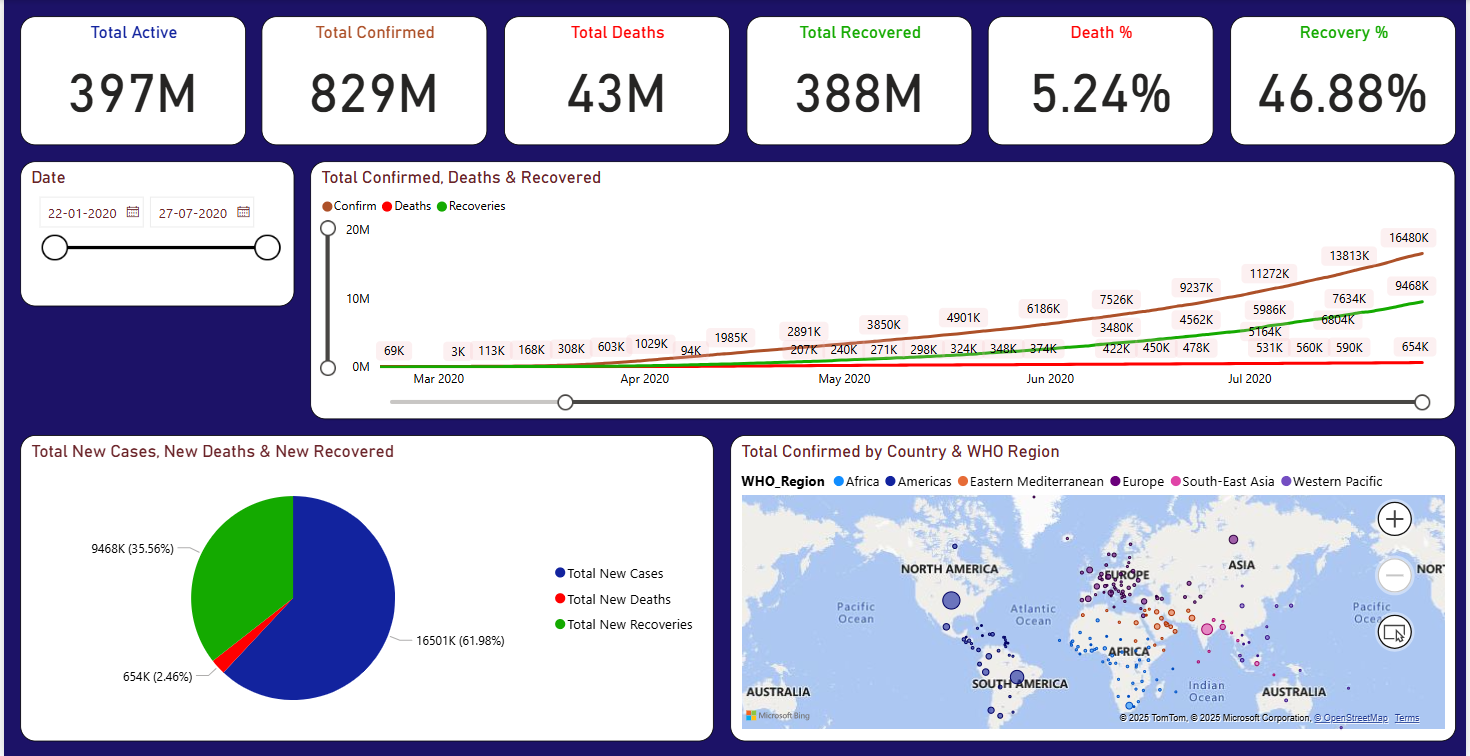

The page's visual inventory and layout, read from the dashboard file:
{"tool":"powerbi","page":{"name":"Global Snapshot","canvas":[1450,750],"ordinal":0},"visuals":[{"type":"card","title":"Total Active","fields":{"Values":["Sum(GlobalDailyTotals.Active)"]},"box":[16,16,224,128],"z":0},{"type":"card","title":"Total Confirmed","fields":{"Values":["Sum(GlobalDailyTotals.Confirmed)"]},"box":[256,16,224,128],"z":1000},{"type":"card","title":"Total Recovered","fields":{"Values":["Sum(GlobalDailyTotals.Recovered)"]},"box":[736,16,224,128],"z":2000},{"type":"card","title":"Total Deaths","fields":{"Values":["Sum(GlobalDailyTotals.Deaths)"]},"box":[496,16,224,128],"z":3000},{"type":"card","title":"Death %","fields":{"Values":["View.Death%"]},"box":[976,16,224,128],"z":4000},{"type":"lineChart","title":"Total Confirmed, Deaths & Recovered ","fields":{"Y":["View.Confirm","View.Deaths","View.Recoveries"],"Category":["GlobalDailyTotals.Date.Variation.Date Hierarchy.Year","GlobalDailyTotals.Date.Variation.Date Hierarchy.Quarter","GlobalDailyTotals.Date.Variation.Date Hierarchy.Month","GlobalDailyTotals.Date.Variation.Date Hierarchy.Day"]},"box":[304,160,1136,256],"z":5000},{"type":"pieChart","title":"Total New Cases, New Deaths & New Recovered","fields":{"Y":["View.Total New Cases","View.Total New Deaths","View.Total Recovery"]},"box":[16,432,688,304],"z":6000},{"type":"map","title":"Total Confirmed by Country & WHO Region","fields":{"Category":["LatestByCountry.Country"],"Size":["Sum(LatestByCountry.Confirmed)"],"Series":["LatestByCountry.WHO_Region"]},"box":[720,432,720,304],"z":7000},{"type":"slicer","title":"Date","fields":{"Values":["GlobalDailyTotals.Date"]},"box":[16,160,272,144],"z":8000},{"type":"card","title":"Recovery %","fields":{"Values":["View.Recovery%"]},"box":[1216,16,224,128],"z":9000}]}

Visuals, with their boxes in screenshot pixels (x1, y1, x2, y2), scaled from the page's 1450x750 canvas onto the 1470x756 screenshot:
"Total Active" card: [16,16,243,145]
"Total Confirmed" card: [260,16,487,145]
"Total Recovered" card: [746,16,973,145]
"Total Deaths" card: [503,16,730,145]
"Death %" card: [989,16,1217,145]
"Total Confirmed, Deaths & Recovered " lineChart: [308,161,1460,419]
"Total New Cases, New Deaths & New Recovered" pieChart: [16,435,714,742]
"Total Confirmed by Country & WHO Region" map: [730,435,1460,742]
"Date" slicer: [16,161,292,306]
"Recovery %" card: [1233,16,1460,145]
